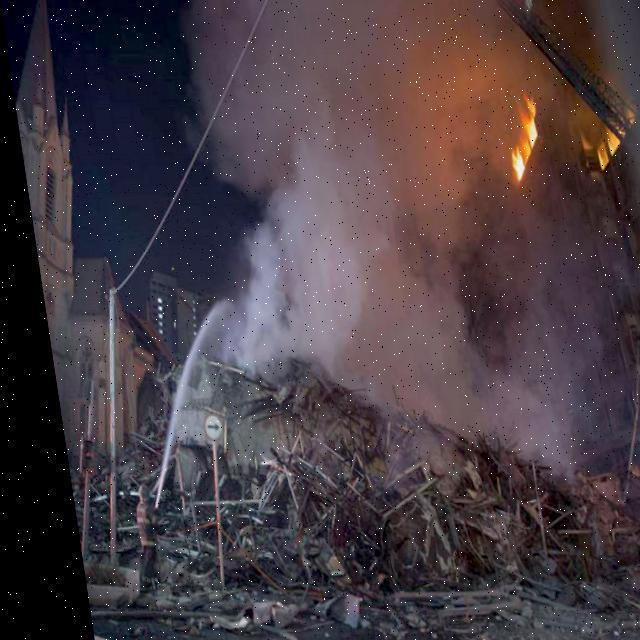Fire: (489, 100, 543, 176)
